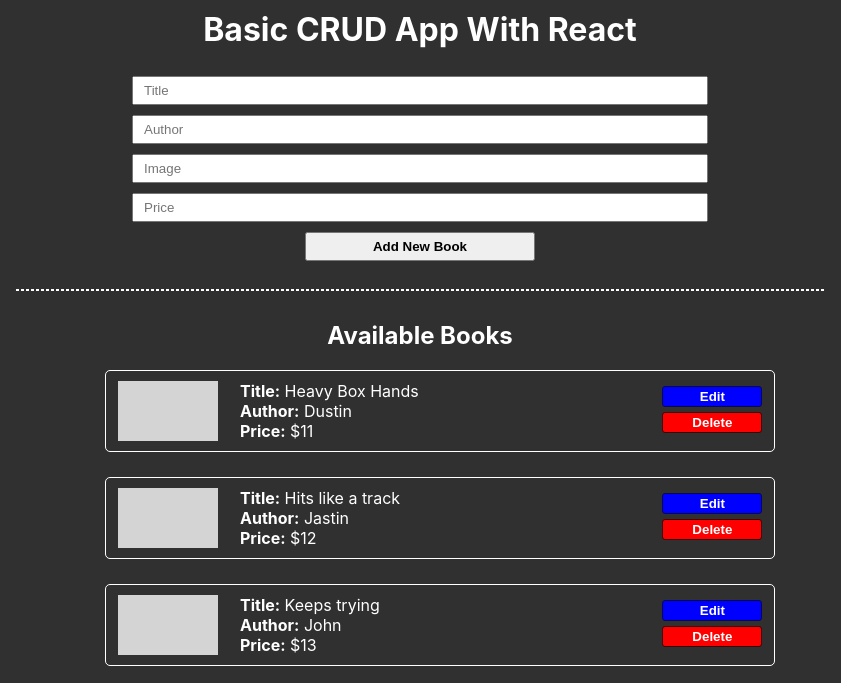
Test: updateBook() › should update last book successfully
The width and height of the screenshot is (841, 683).
Click the button with class "edit-btn" in the row of "Keeps trying" at (712, 611), box [662, 600, 762, 621]
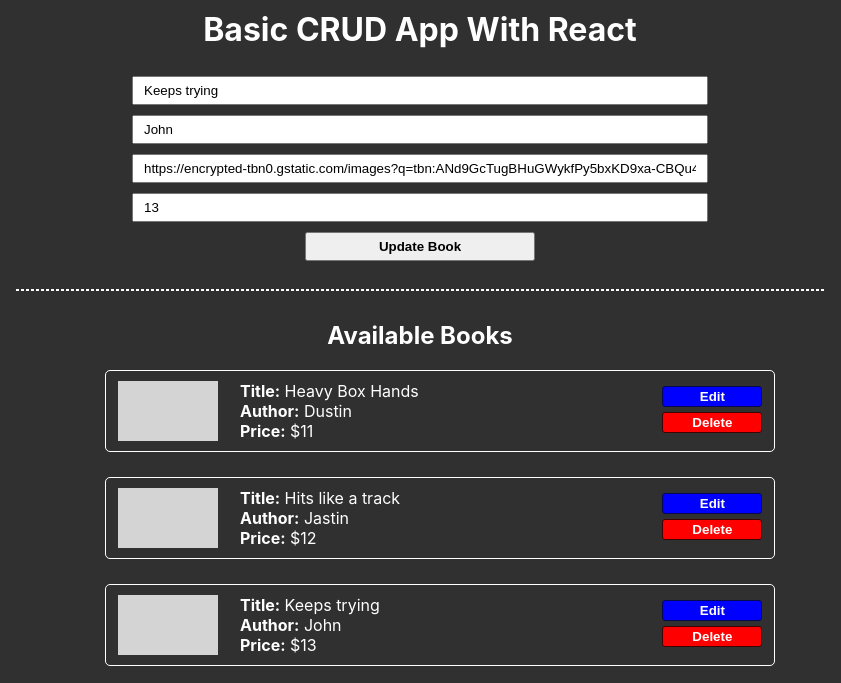
Type "Max Holloway" into the field with test id "author-input" at (420, 130), box [132, 115, 708, 144]
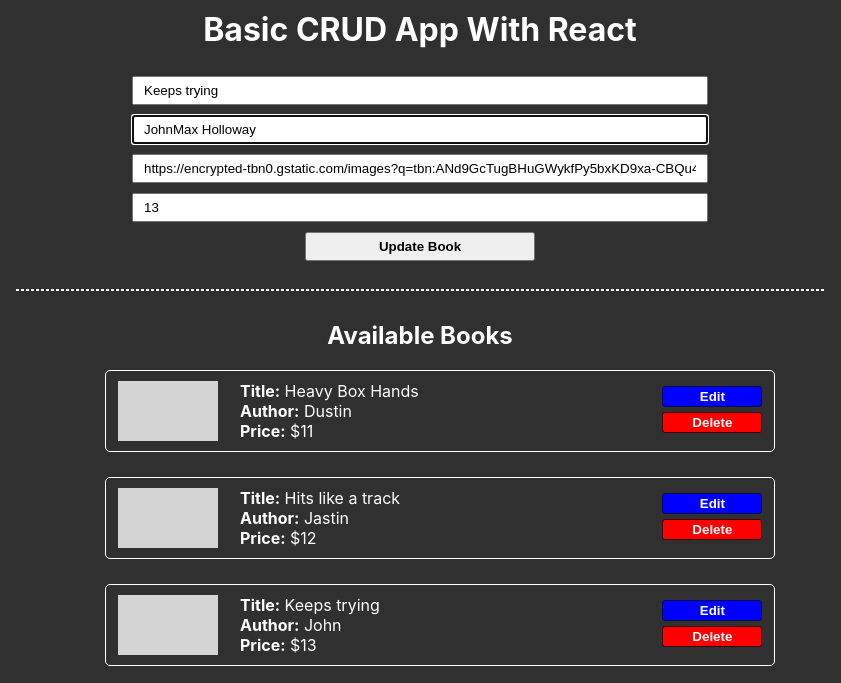
Check: the button with test id "submit-btn" reads "Update Book"
Click the button with test id "submit-btn" at (420, 247), box [305, 232, 535, 261]
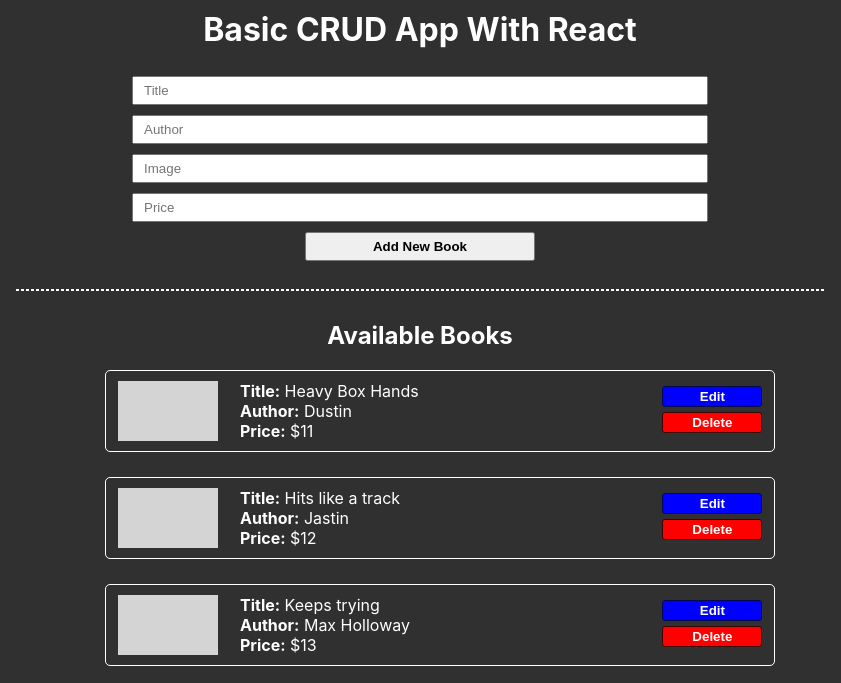
Check: the 3rd list item shows "Max Holloway", box [105, 584, 774, 666]
